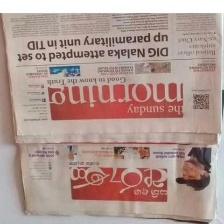news_paper: (0, 13, 223, 144), (9, 133, 222, 223)
